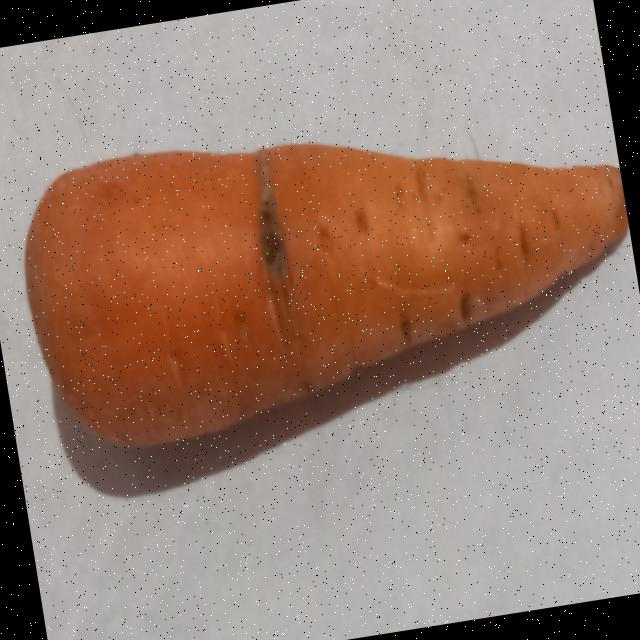carrot: (24, 144, 628, 445)
